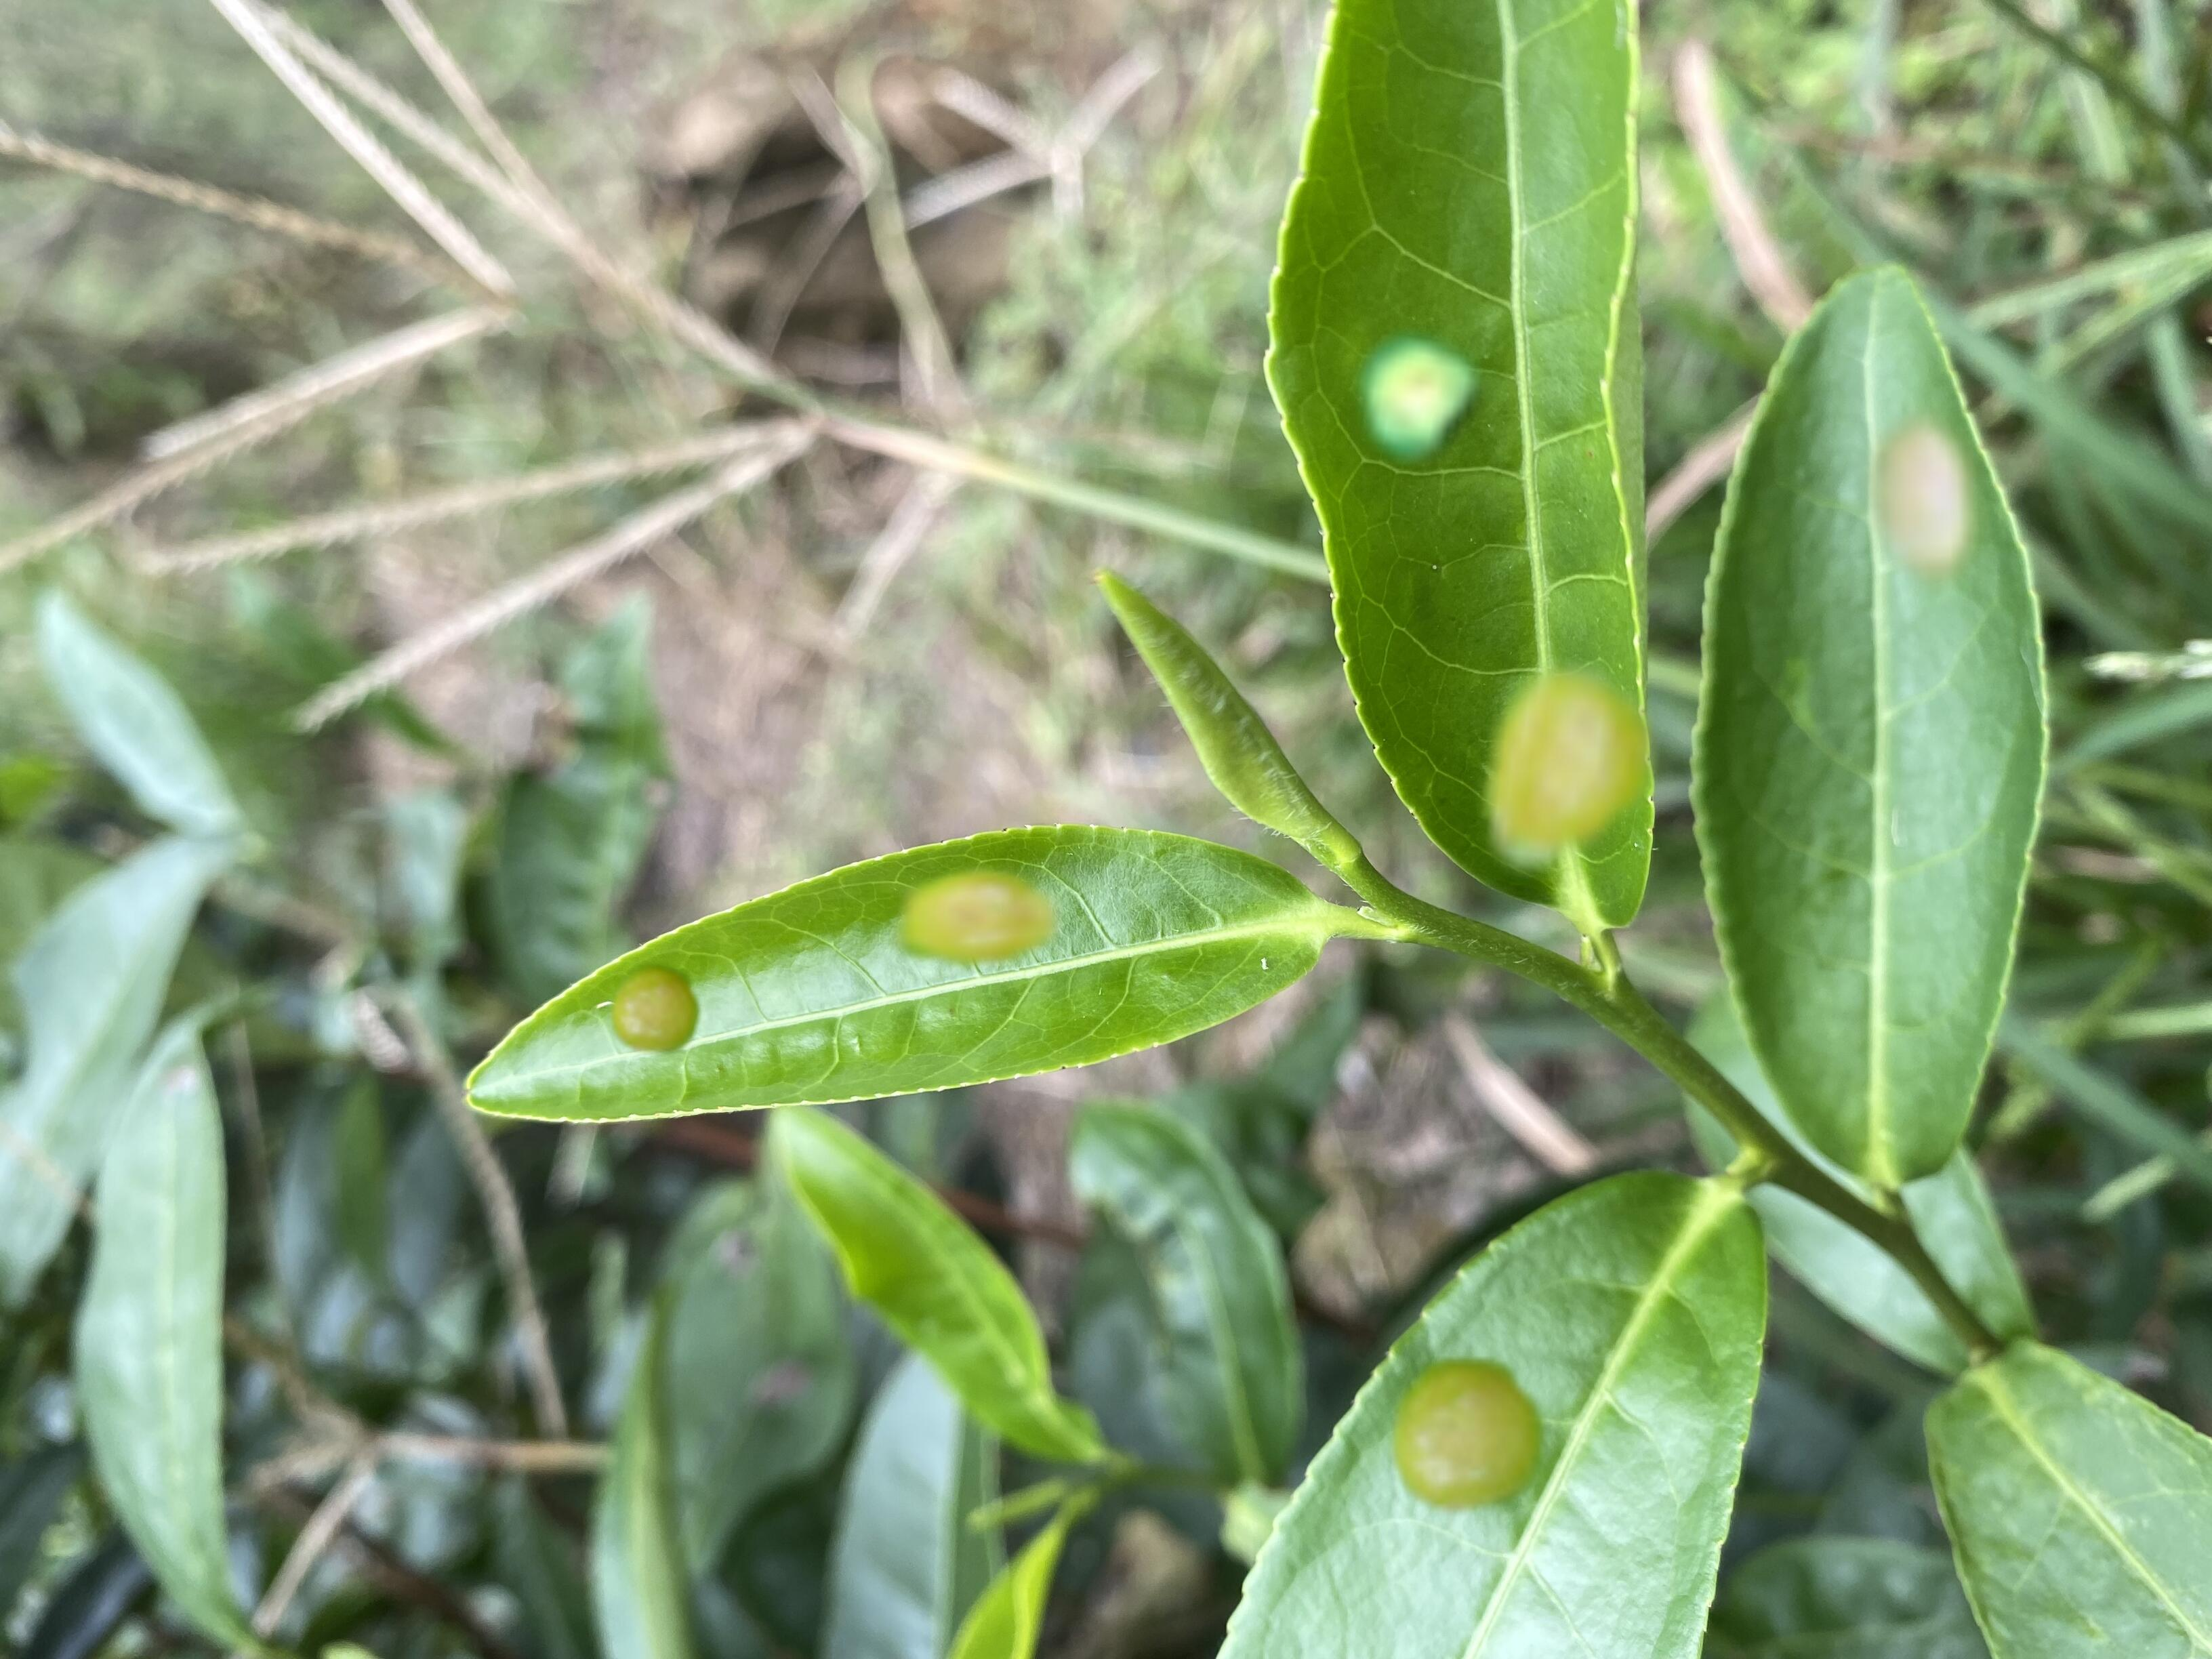chabing_high: (1264, 0, 1677, 932), (458, 824, 1325, 1122)
chabing_low: (1689, 263, 2050, 1190), (1211, 1164, 1770, 1656)
